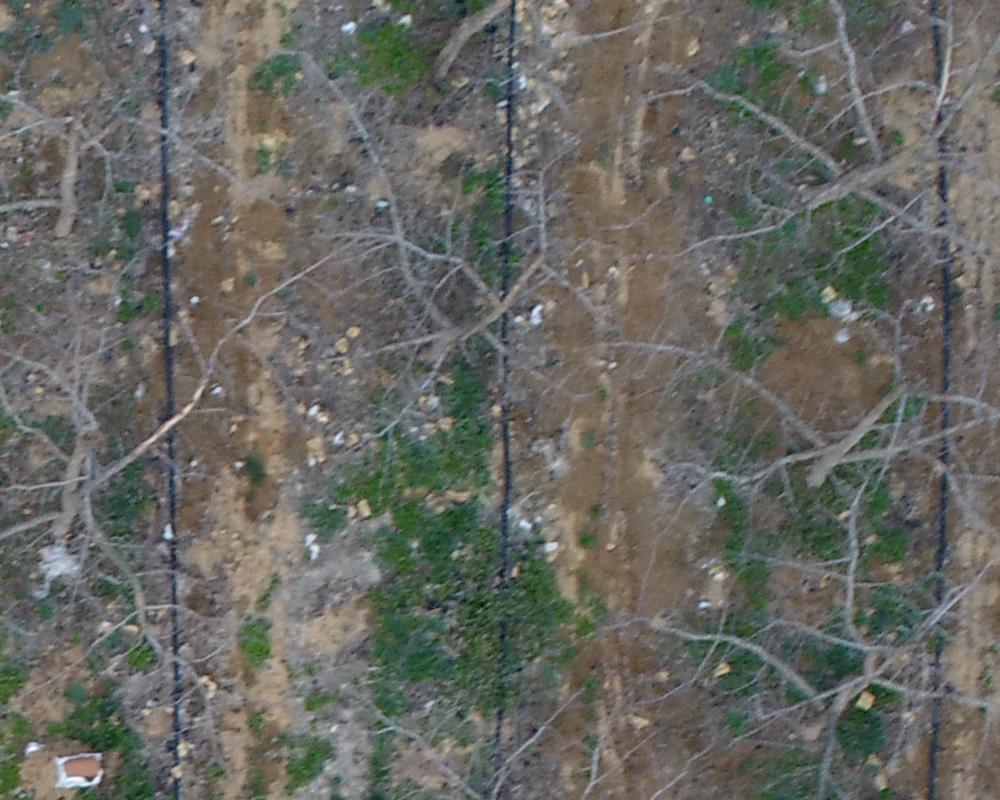apple: (10, 243, 342, 688), (277, 46, 641, 449), (603, 480, 990, 790), (589, 290, 990, 560), (648, 10, 990, 307), (10, 30, 244, 262)
